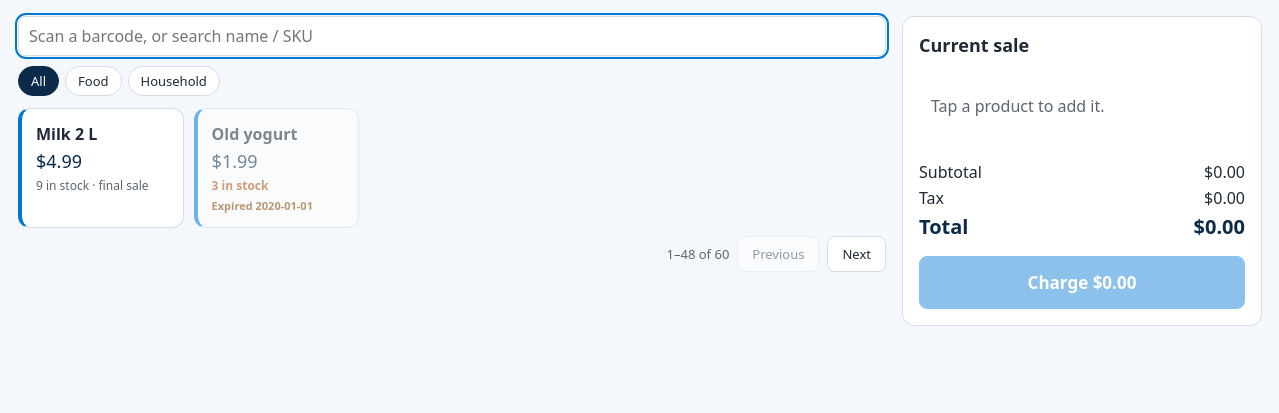
Scenario: <Register> with a big catalogue › pages from the server, filters by sub-category, adds scanned barcodes, blocks expired items
Expected: the text "1–48 of 60" is shown, [666, 236, 886, 272]
Click the button "Next". click: (857, 254)
box: [828, 236, 886, 272]
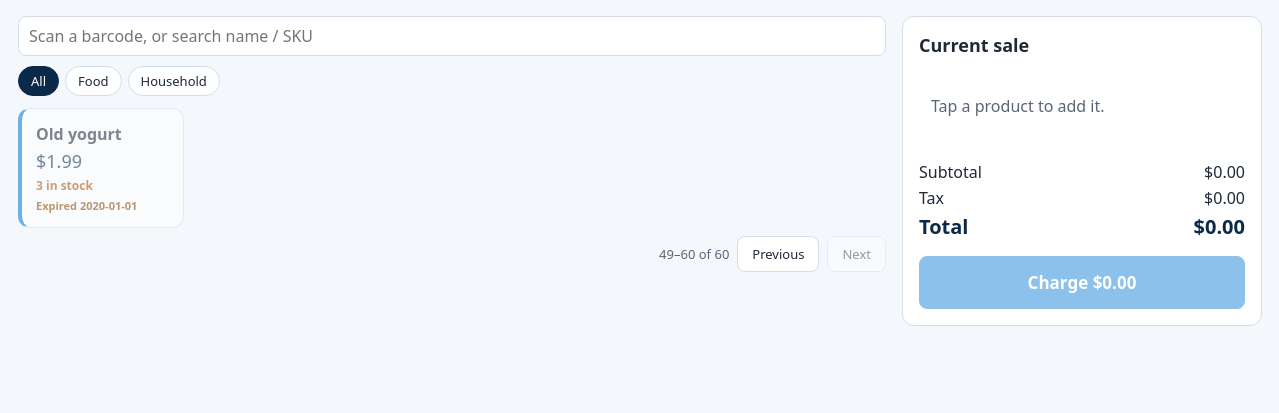
Expected: the text "49–60 of 60" is shown, [659, 236, 886, 272]
Click the button "Food". click: (93, 81)
box: [65, 66, 122, 96]
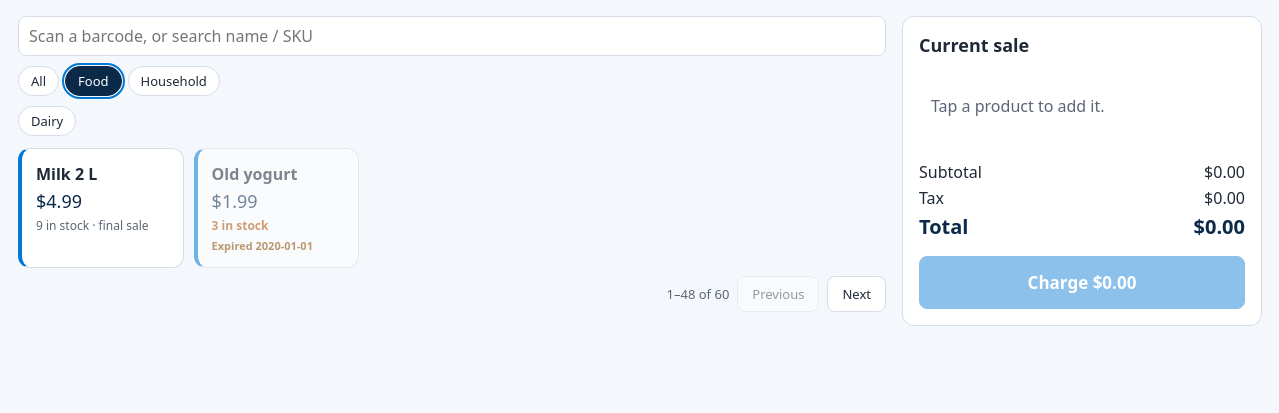
Click the button "Dairy". click: (47, 121)
box: [18, 106, 76, 136]
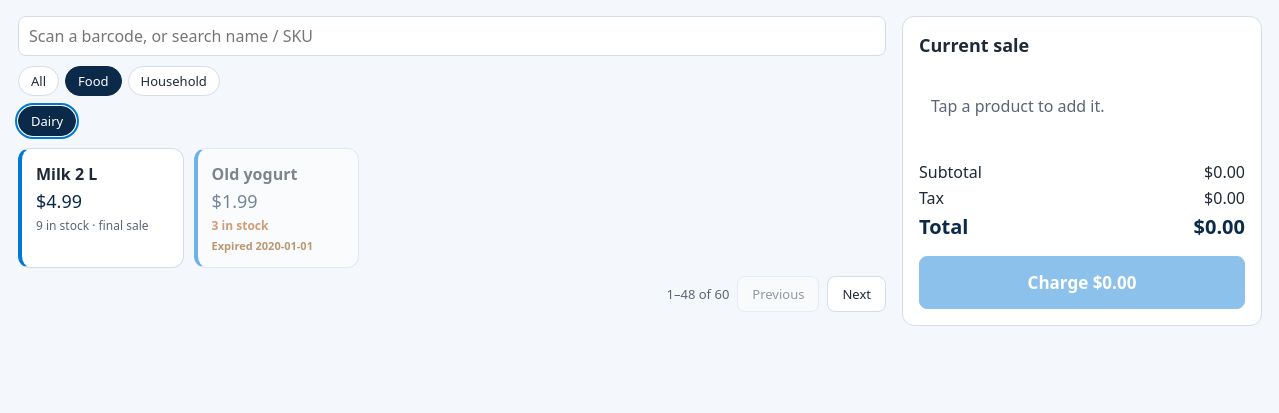
Expected: the button with aria-label "Add Old yogurt" is disabled, [194, 148, 359, 268]
Expected: the text "Expired 2020-01-01" is shown, [212, 238, 313, 253]
Type "4006381333931" into the search field named "Search products". click: (452, 36)
box: [18, 16, 886, 56]
Then press Enter
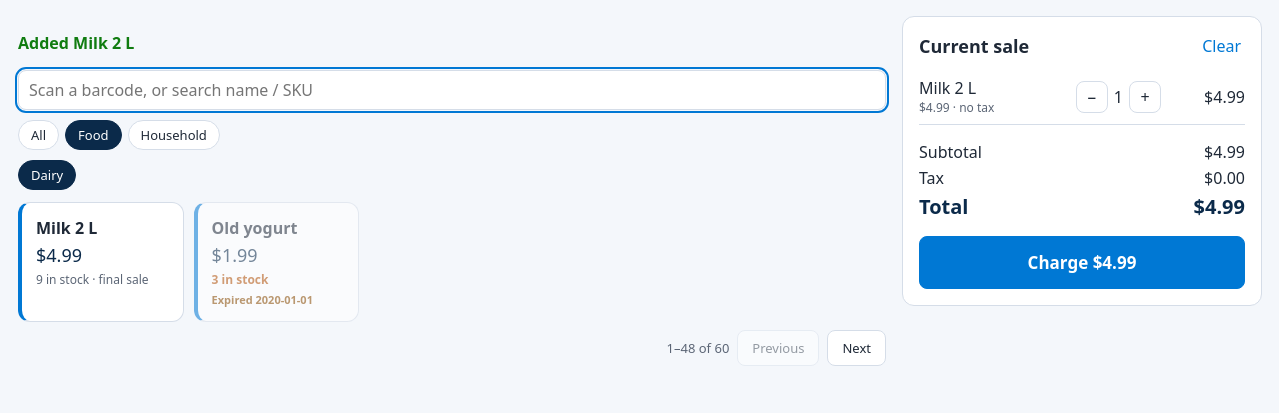
Expected: the text "Added Milk 2 L" is shown, [18, 32, 134, 54]
Expected: the text with test id "cart-total" reads "$4.99", [1194, 193, 1245, 220]
Type "0000000000000" into the search field named "Search products". click: (452, 90)
box: [18, 70, 886, 110]
Then press Enter
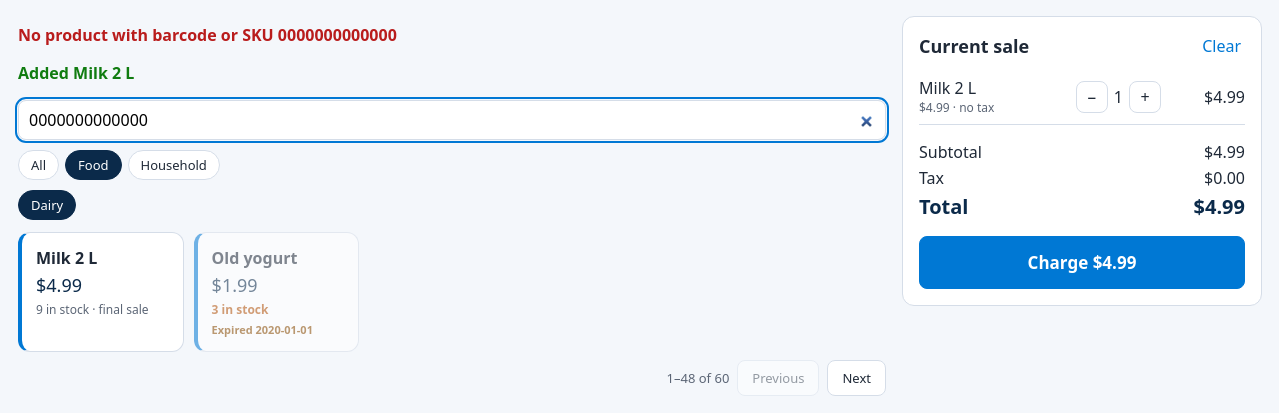
Expected: the message "No product with barcode or SKU 0000000000000" is shown, [18, 24, 397, 46]
